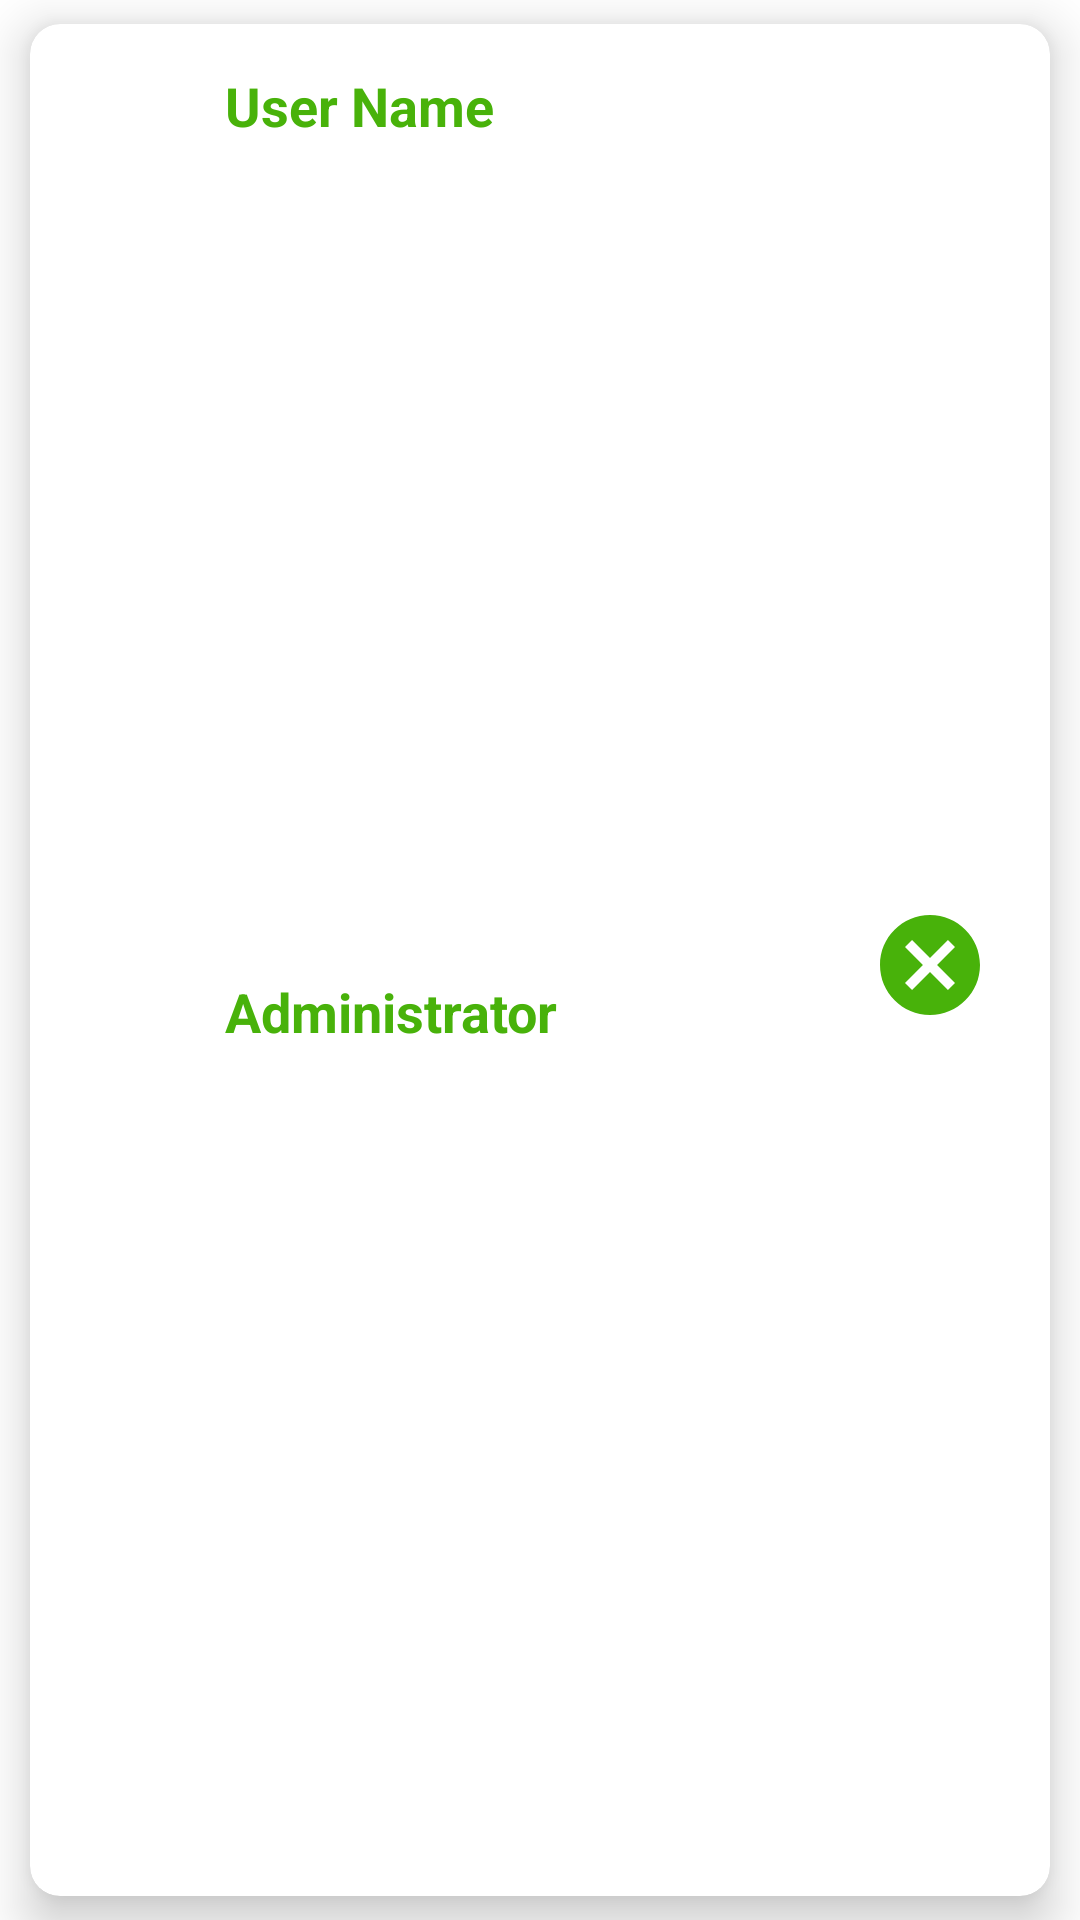

Locate icon controls on the screen. Image size 1080 x 1920, boxes as bbox=(x1, y1, x2, y2).
delete: bbox=(880, 915, 980, 1015)
